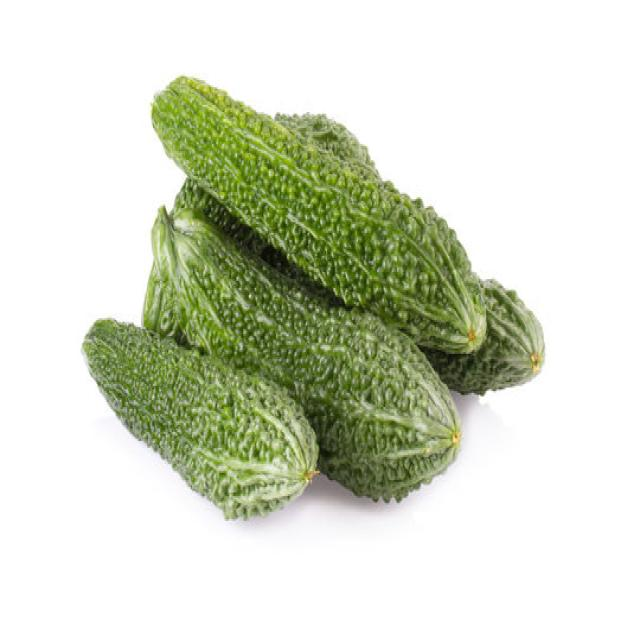Bitter_Gourd: (160, 62, 514, 490), (81, 318, 300, 500)
